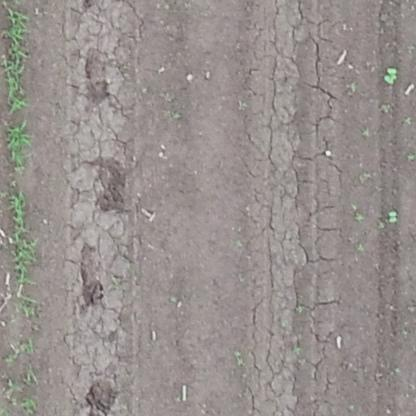corn: (7, 189, 42, 285), (5, 6, 31, 112), (6, 123, 37, 172)
vc: (383, 65, 399, 86), (387, 206, 399, 227)
